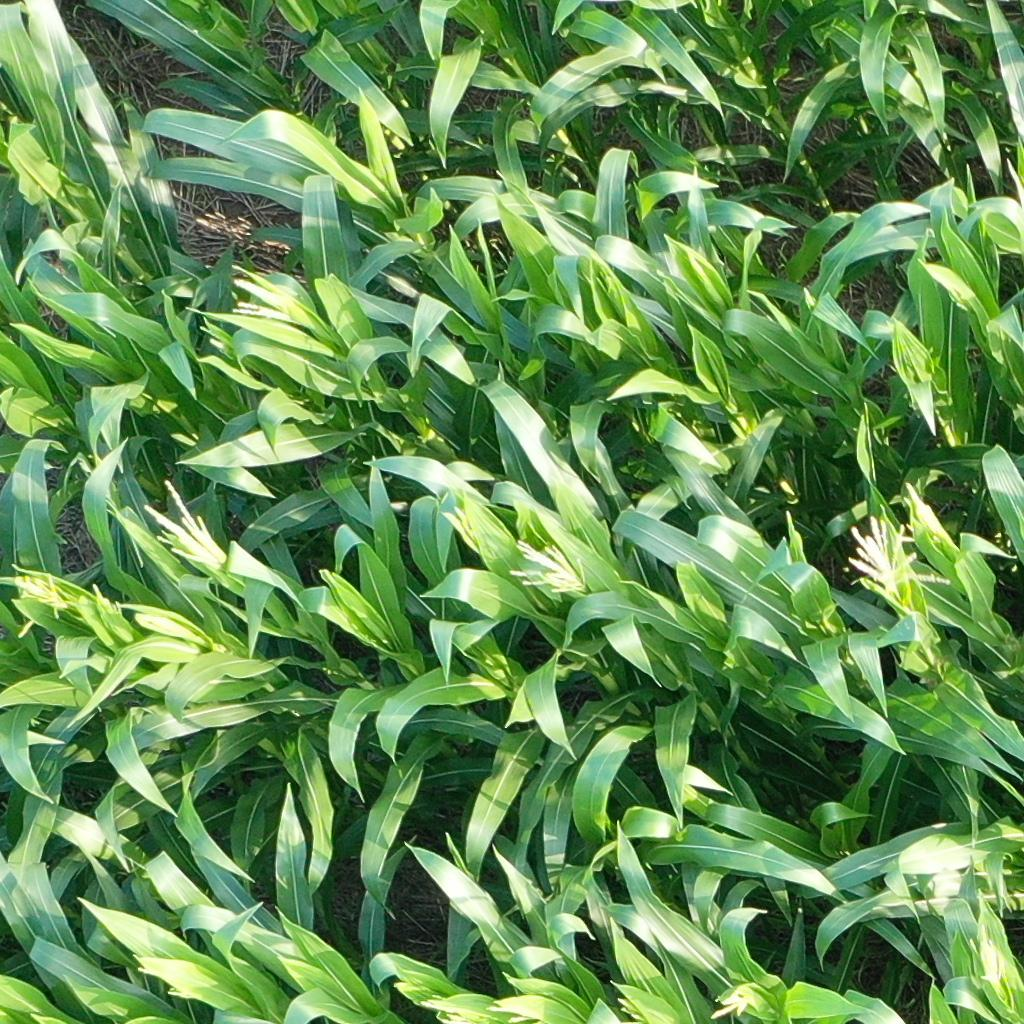Tassel: (839, 505, 951, 613), (137, 479, 233, 583), (212, 266, 304, 333), (500, 535, 593, 600), (6, 555, 69, 626), (959, 921, 1008, 988), (133, 965, 197, 1002), (709, 978, 761, 1019), (416, 987, 476, 1022), (89, 578, 125, 623), (664, 1, 728, 18)
